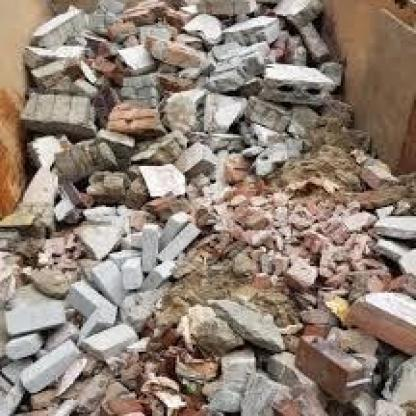brick: (2, 2, 413, 413)
